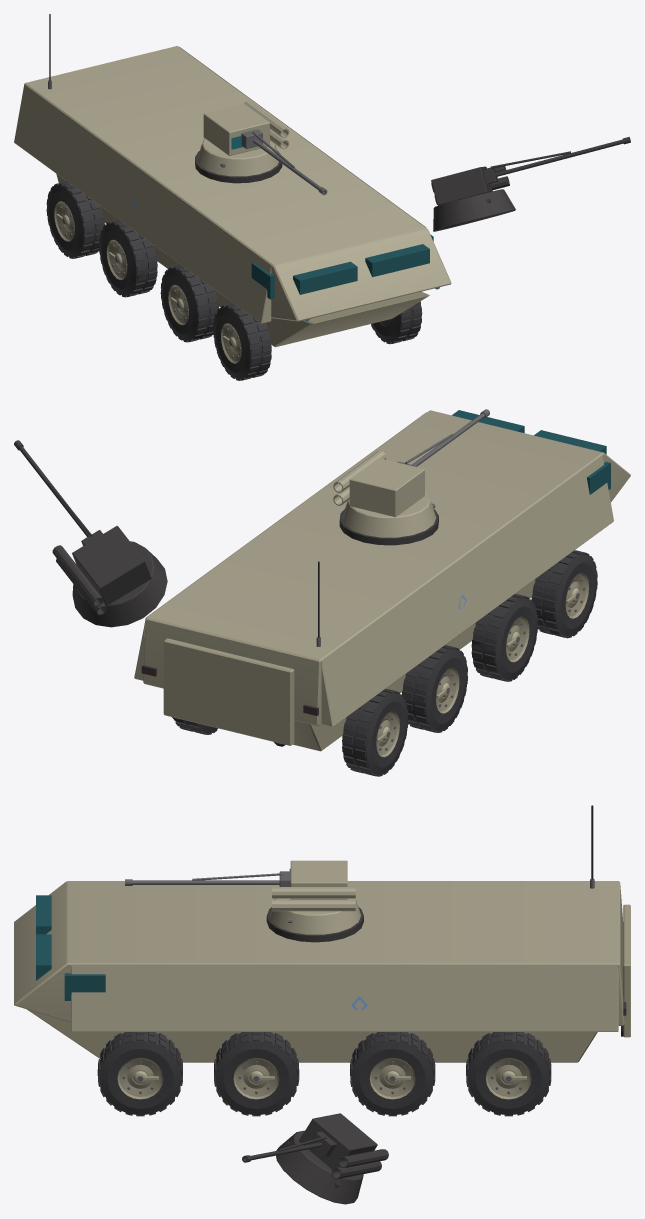
The model's file is apc__btr_4.glb.
3 renders of one model, top to bottom at view 1: azimuth 30°, elevation 25°; view 2: azimuth 150°, elevation 25°; view 3: azimuth 270°, elevation 25°, orthographic. The views are drawn at different scales.
Visible parts, largest first — view 1: Hull_Mesh, Wreck, Turret_Mesh, Wheel_L3_Mesh, Wheel_L1_Mesh, Wheel_L0_Mesh, Wheel_L2_Mesh, Wheel_R3_Mesh, Gun_Mesh; view 2: Hull_Mesh, Wreck, Turret_Mesh, Wheel_L0_Mesh, Wheel_L2_Mesh, Wheel_L3_Mesh, Wheel_L1_Mesh, Gun_Mesh; view 3: Hull_Mesh, Wreck, Wheel_R2_Mesh, Wheel_R0_Mesh, Wheel_R1_Mesh, Wheel_R3_Mesh, Turret_Mesh, Gun_Mesh.
Boxes of the visible parts, x1,y1,x2,y2 form: Hull_Mesh: (14,14,451,347); Wreck: (72,136,630,373); Turret_Mesh: (197,101,289,176); Wheel_L3_Mesh: (213,303,271,380); Wheel_L1_Mesh: (99,220,157,297); Wheel_L0_Mesh: (46,181,104,258); Wheel_L2_Mesh: (160,265,218,342); Wheel_R3_Mesh: (371,301,422,344); Gun_Mesh: (241,129,327,194); Hull_Mesh: (134,410,630,751); Wreck: (14,440,582,775); Turret_Mesh: (333,450,436,537); Wheel_L0_Mesh: (342,689,408,776); Wheel_L2_Mesh: (471,594,537,681); Wheel_L3_Mesh: (531,550,597,638); Wheel_L1_Mesh: (402,645,467,732); Gun_Mesh: (397,409,489,467); Hull_Mesh: (14,805,630,1062); Wreck: (129,907,500,1204); Wheel_R2_Mesh: (214,1032,299,1116); Wheel_R0_Mesh: (466,1032,551,1116); Wheel_R1_Mesh: (350,1032,435,1116); Wheel_R3_Mesh: (97,1032,182,1116); Turret_Mesh: (269,860,361,934); Gun_Mesh: (125,871,290,886).
Size of what is drawn, in the model's own units: 7.4 by 3.29 by 7.97.
